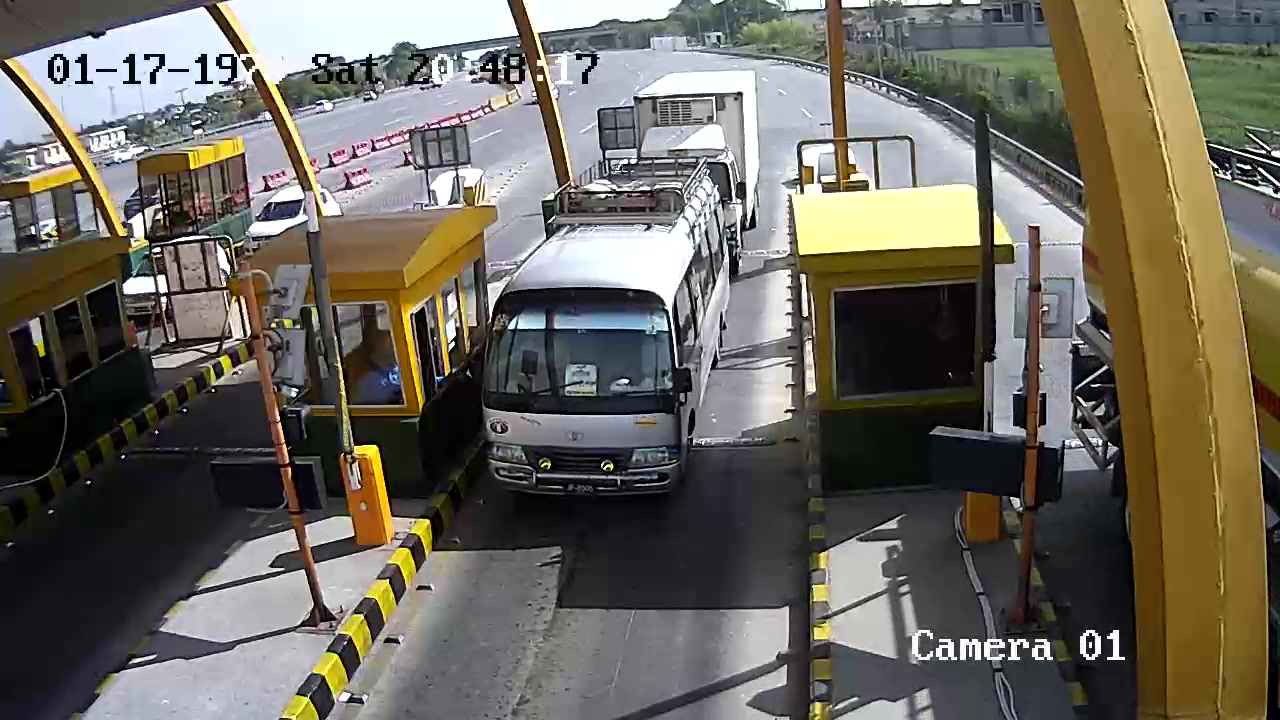F3: (477, 155, 734, 508)
